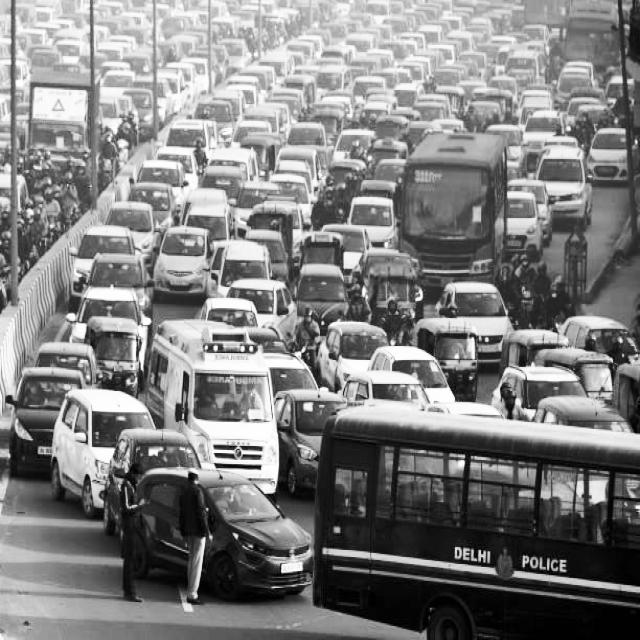Ambulance: (155, 323, 280, 492), (198, 333, 263, 362), (204, 367, 266, 391)
